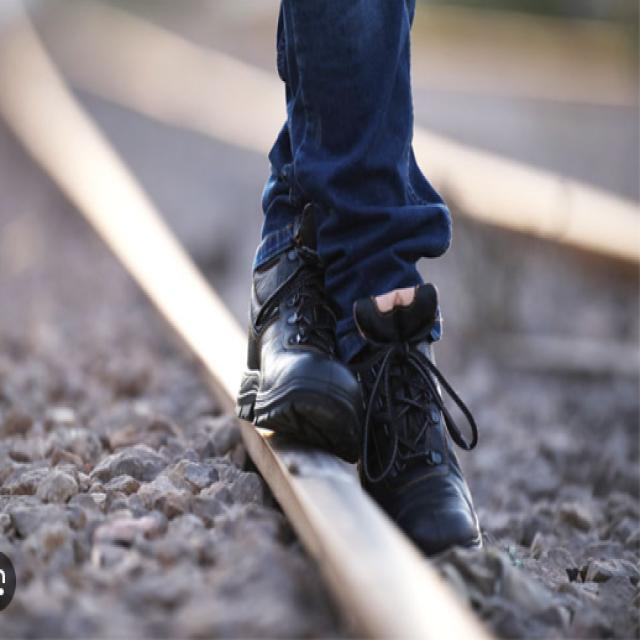shoes: (235, 174, 488, 566)
